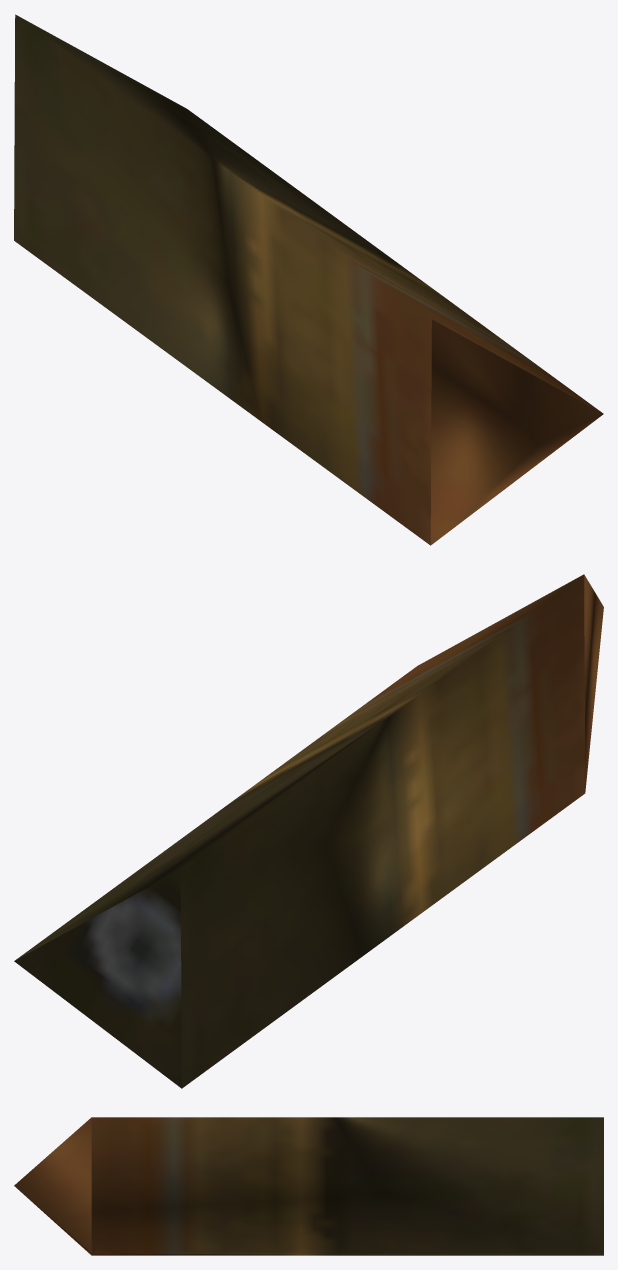
The model's file is Assault_Rifle_M12_01_dj_lod2_Body_LOD_(000648).glb.
3 views of the same model, one above another, from view 1: azimuth 30°, elevation 25°; view 2: azimuth 150°, elevation 25°; view 3: azimuth 270°, elevation 25° (orthographic). The views are drawn at different scales.
Visible parts, largest first — view 1: M12_01_dj_lod2; view 2: M12_01_dj_lod2; view 3: M12_01_dj_lod2.
Part boxes in pixels (left/top/right/bottom): M12_01_dj_lod2: left=14, top=14, right=603, bottom=545; M12_01_dj_lod2: left=14, top=574, right=603, bottom=1088; M12_01_dj_lod2: left=14, top=1117, right=603, bottom=1255.
Bounding box in the file's own units: 0.0233 × 0.029 × 0.1116.
Materials: 1 (1 with a texture image).
